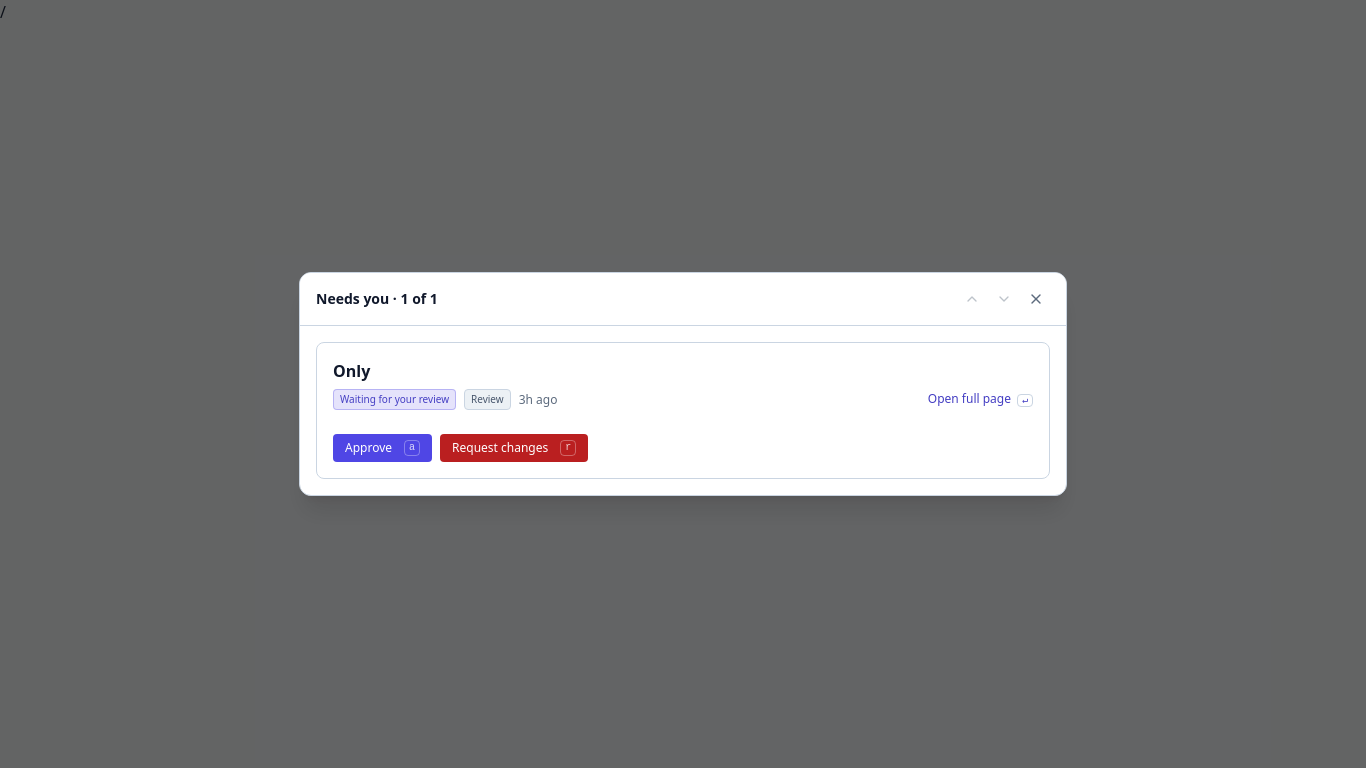
Scenario: ReviewPopup › shows All clear after the last item and closes after ~1.5s
Click the button "Approve a" at point(382, 448), box [333, 434, 432, 462]
Wait 1600 ms
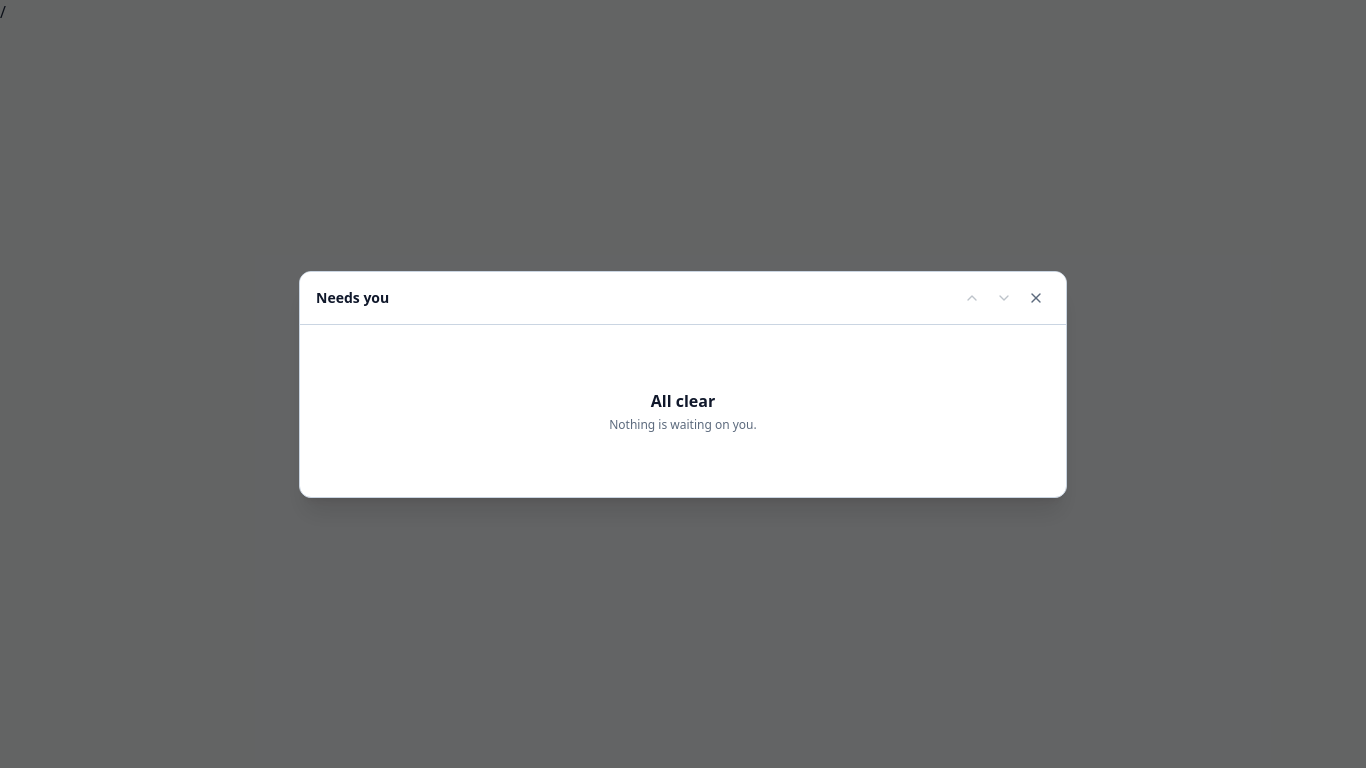
expect the element with test id "review-all-clear" shows "All clear": met, box [651, 390, 715, 412]
